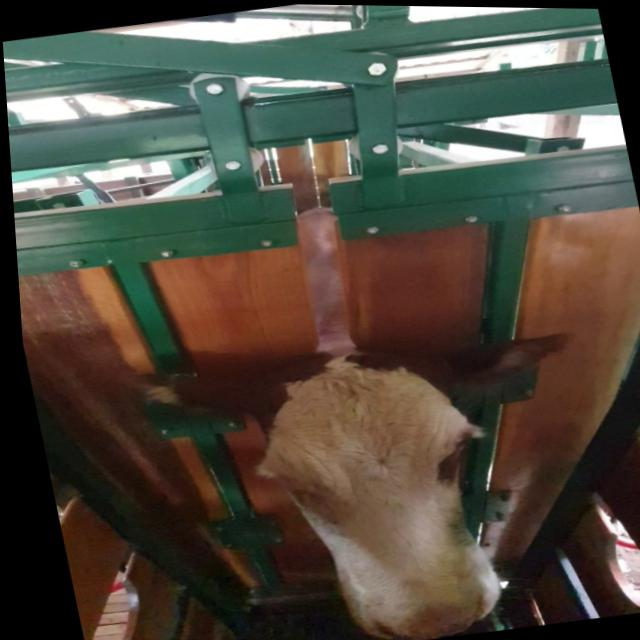cowFace: (232, 341, 503, 640)
